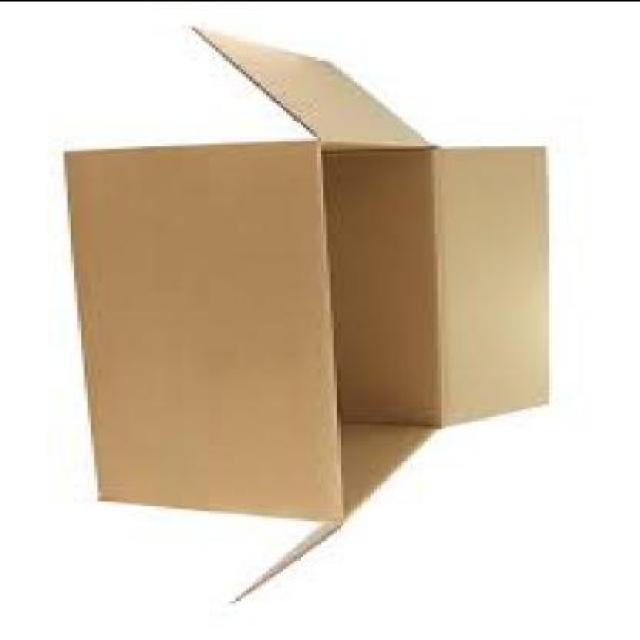CARDBOARD: (67, 24, 553, 602), (64, 138, 350, 516)
